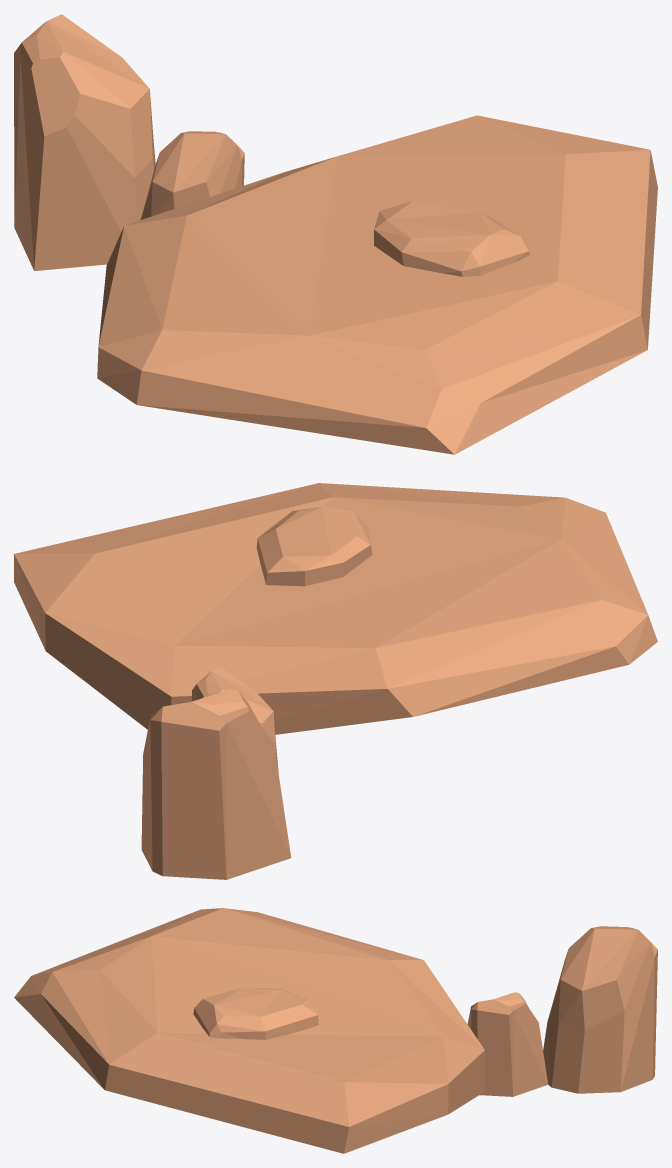
The picture shows the model from 3 angles, top to bottom: view 1: azimuth 30°, elevation 25°; view 2: azimuth 150°, elevation 25°; view 3: azimuth 270°, elevation 25°; orthographic projection. The views are drawn at different scales.
Visible parts, largest first — view 1: rock.001; view 2: rock.001; view 3: rock.001.
Part boxes in pixels (box(x1,y1,x2,y2)): rock.001: box(14, 14, 657, 454); rock.001: box(14, 483, 657, 879); rock.001: box(14, 908, 657, 1153).
Size of the model in its own units: 14.07 by 4.24 by 17.44.
